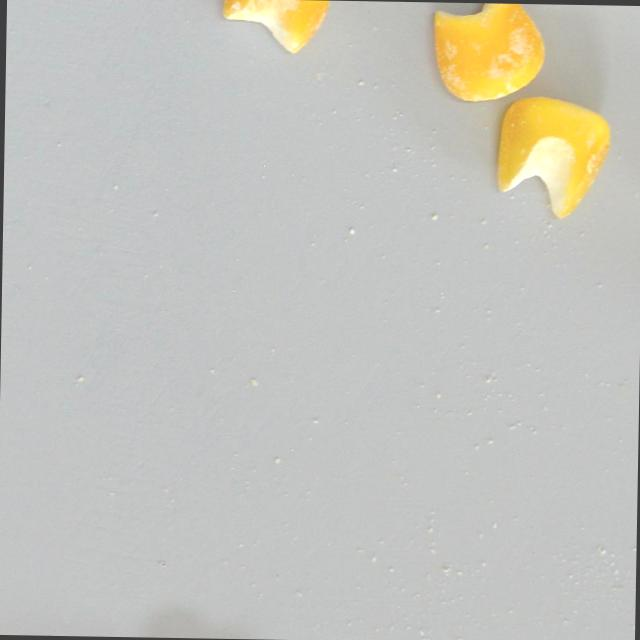pelicula: (493, 92, 610, 220), (430, 2, 545, 103), (220, 0, 329, 53)
